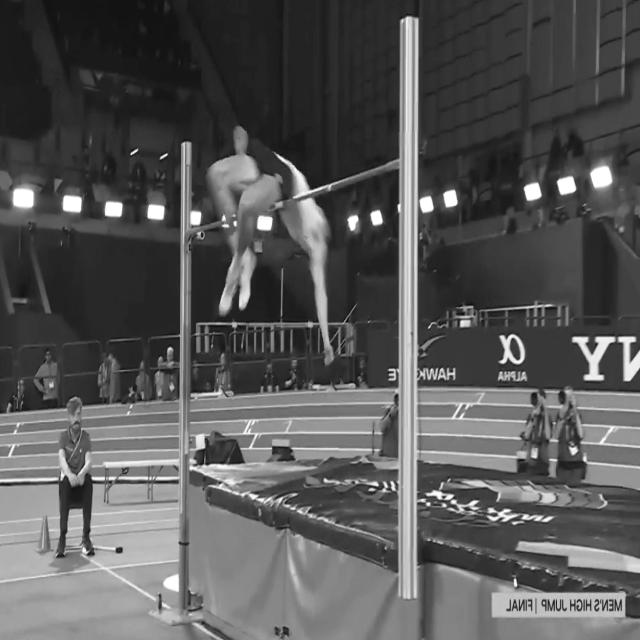jump: (207, 129, 336, 364)
